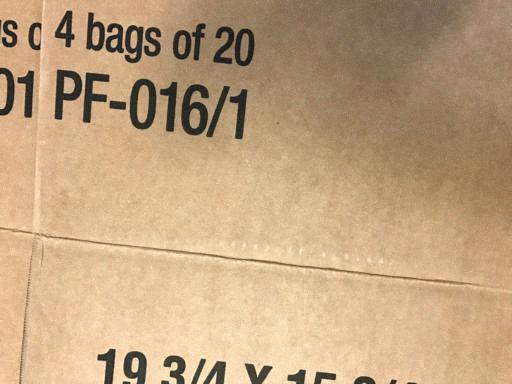cardboard: (0, 6, 512, 384)
